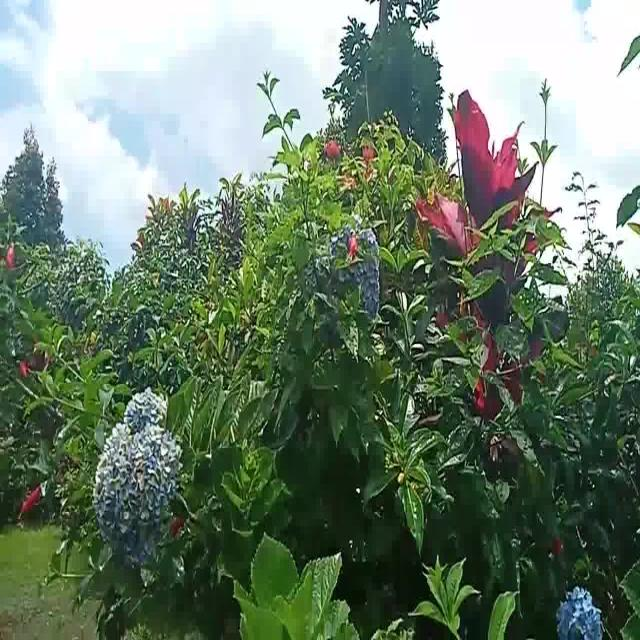Flower: (90, 373, 180, 543), (552, 585, 603, 640)
